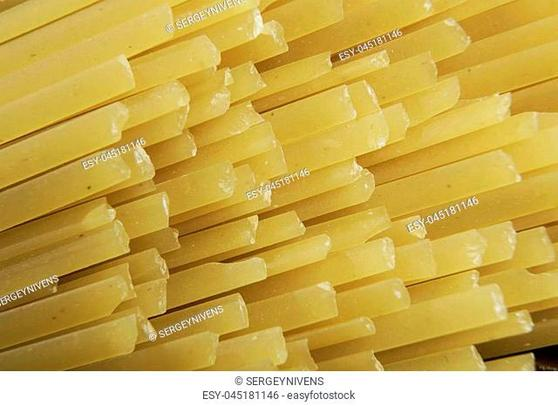spaghetti: (15, 9, 545, 373)
